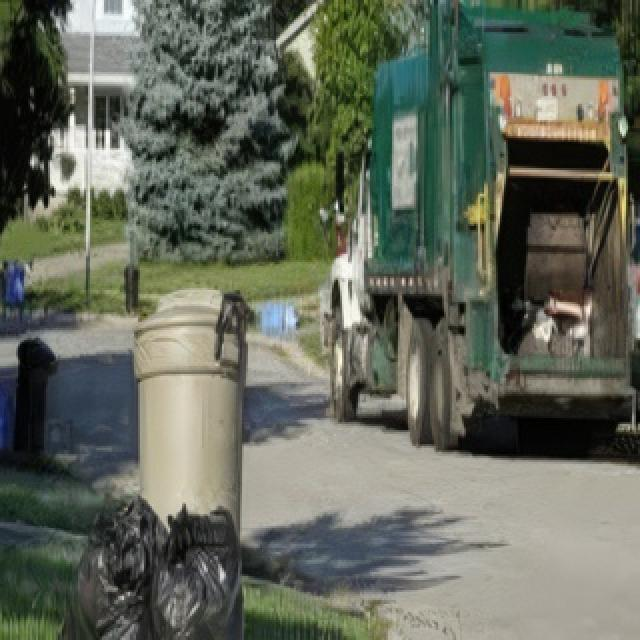Trashbag: (56, 488, 170, 640), (147, 501, 250, 640)
